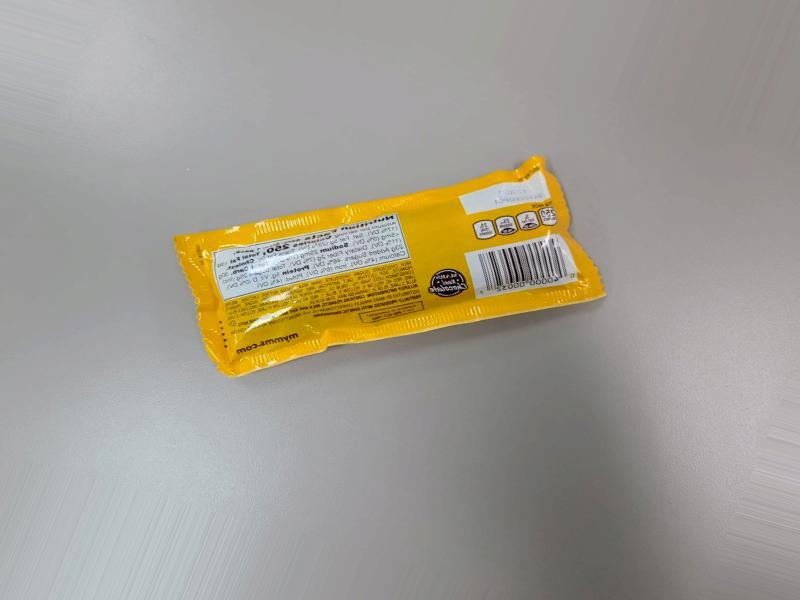m&m: (156, 155, 642, 380)
